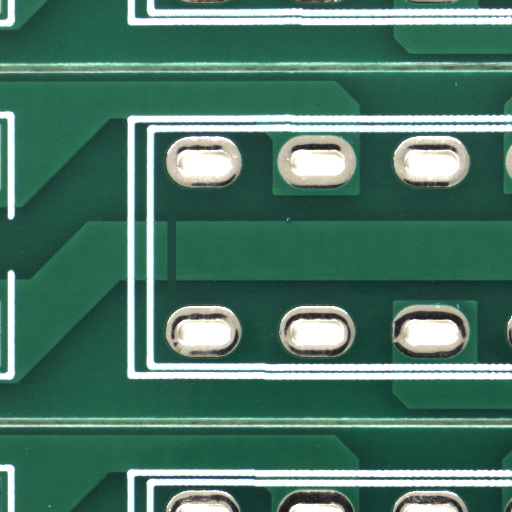Open_circuit: (171, 250, 182, 316)
